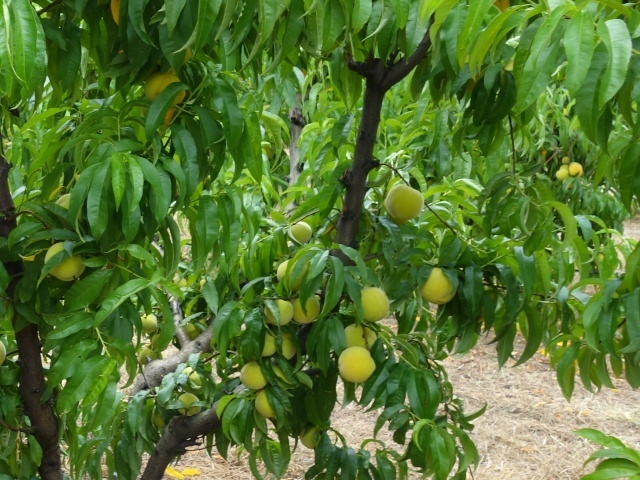peach: (39, 237, 88, 288), (141, 65, 189, 113), (382, 180, 427, 227), (418, 262, 458, 309), (334, 342, 376, 386), (353, 281, 393, 326), (340, 320, 380, 355), (287, 289, 325, 325), (262, 294, 296, 328), (236, 359, 269, 391), (253, 387, 284, 420), (274, 258, 307, 288), (286, 218, 315, 248), (255, 327, 284, 355), (173, 391, 201, 420), (135, 308, 162, 338), (272, 334, 300, 362), (298, 424, 325, 453)
